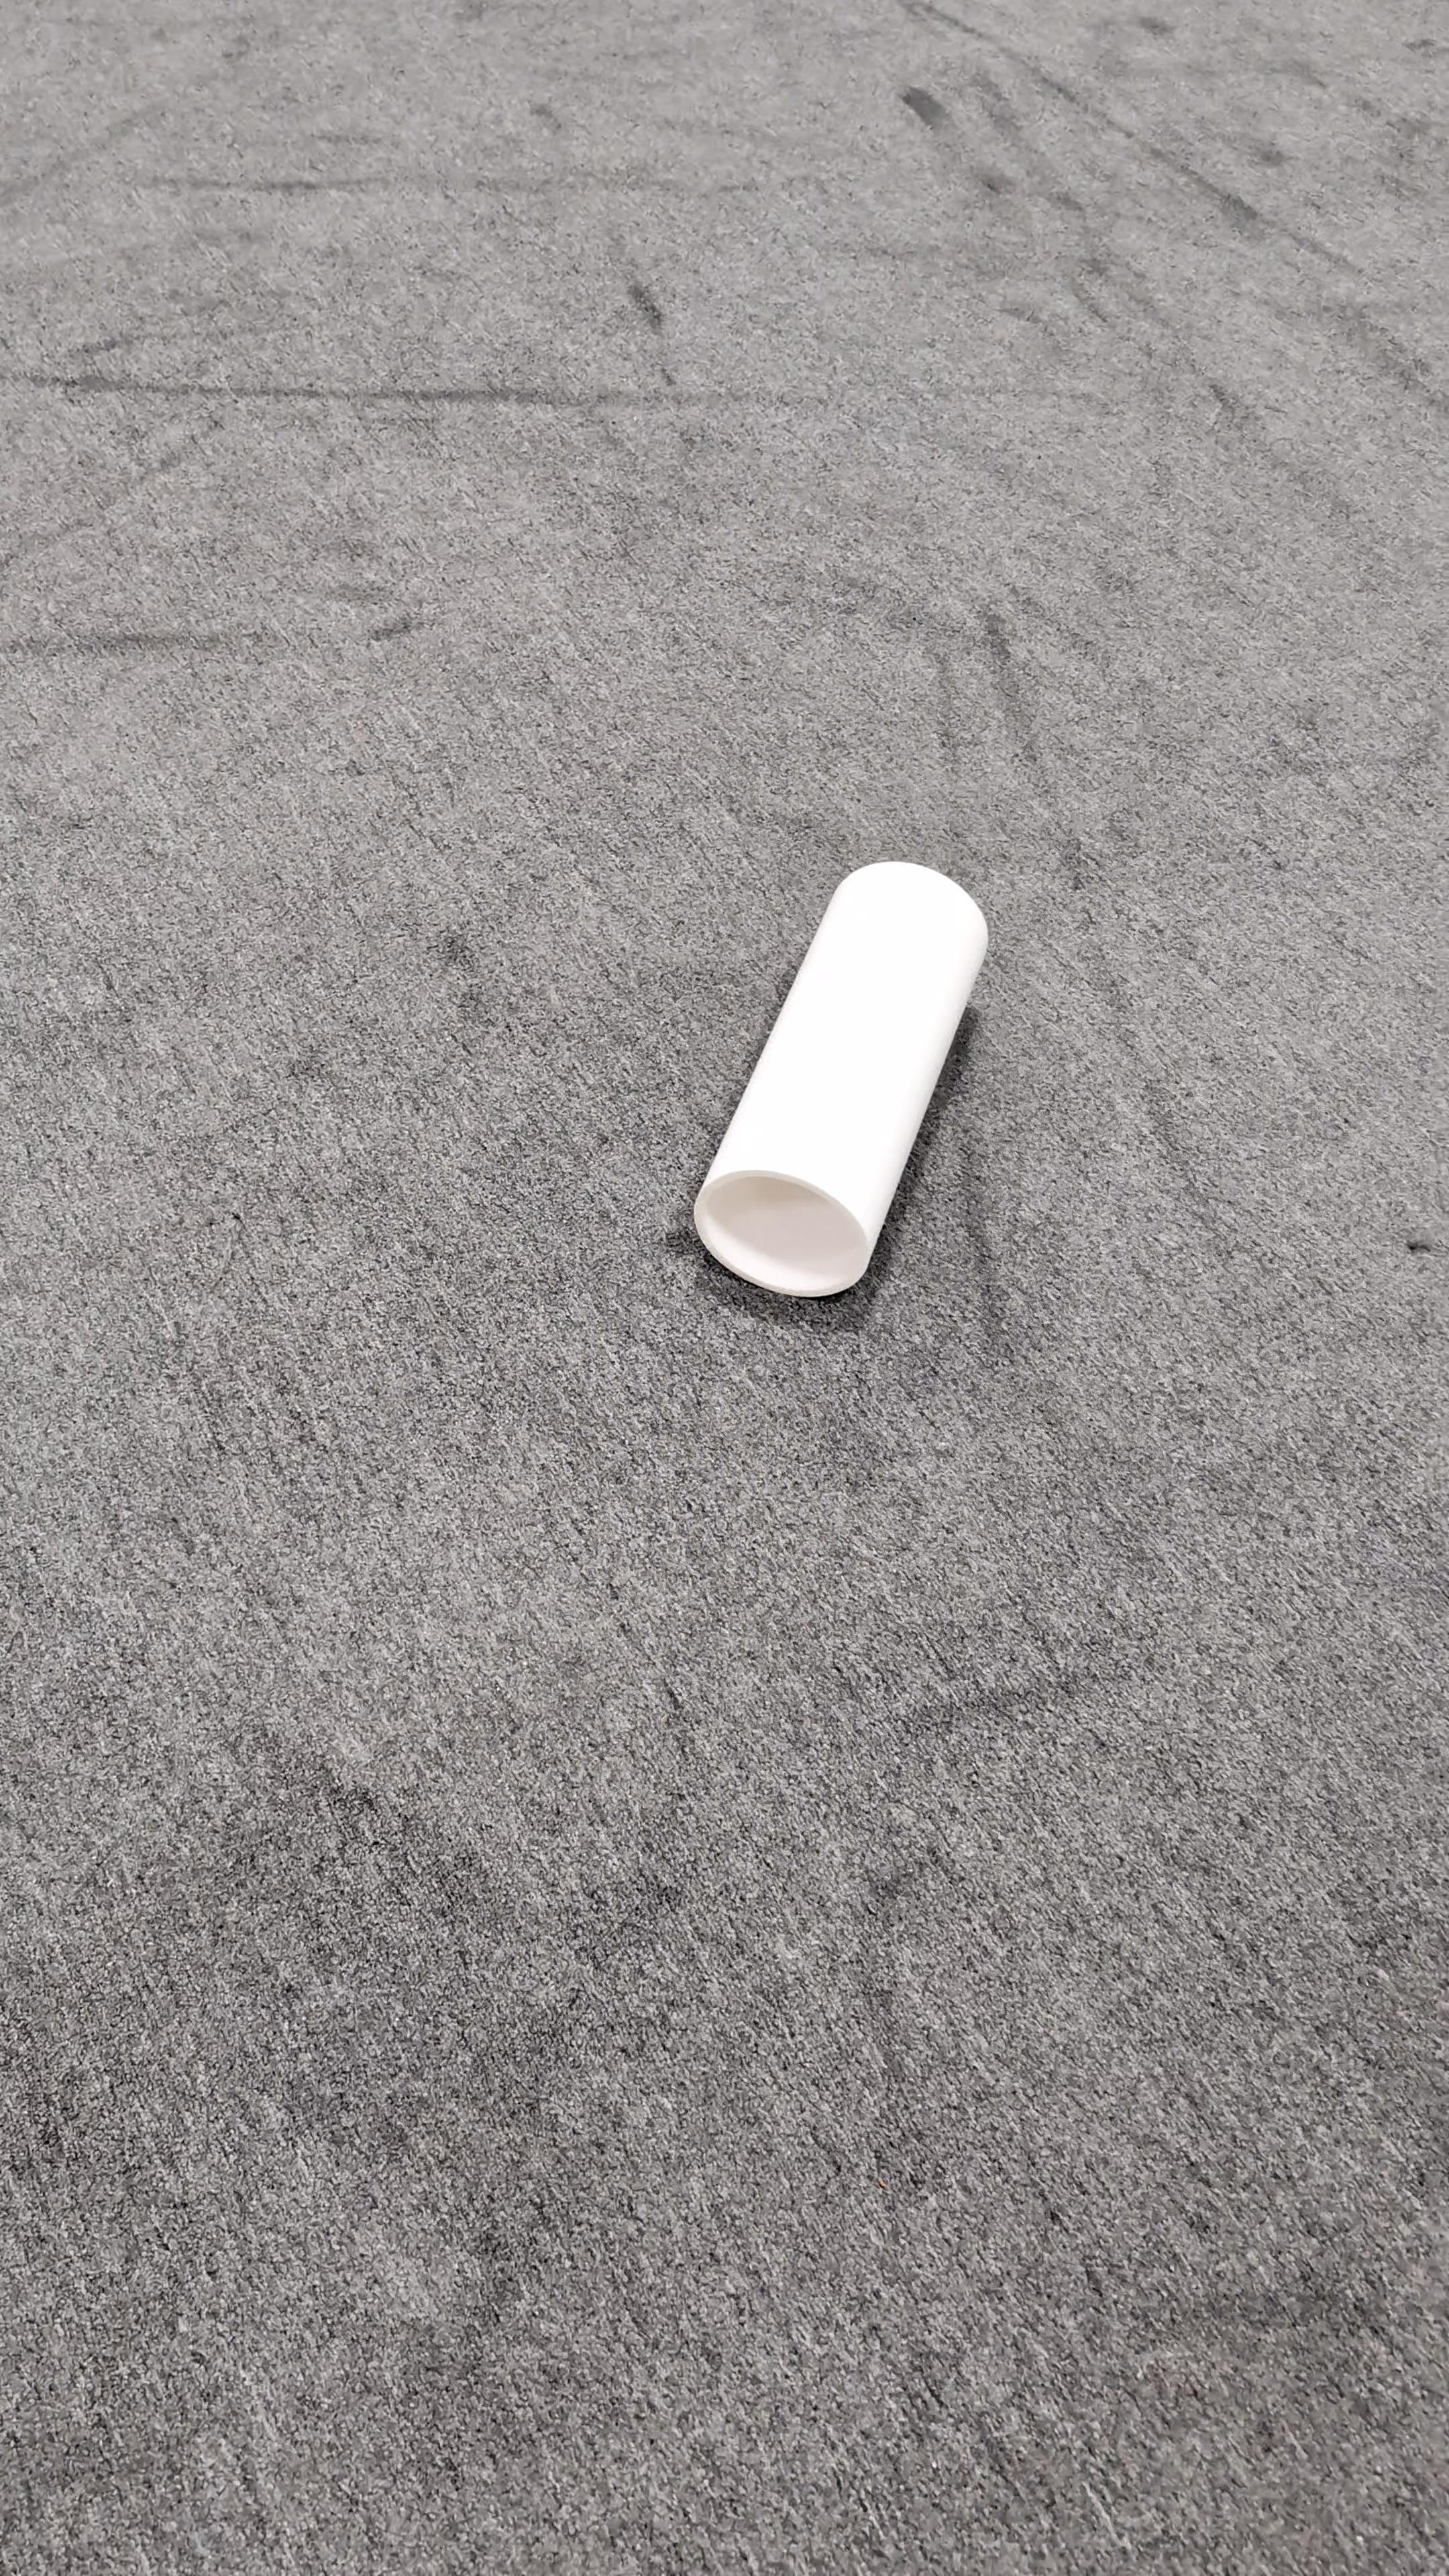coral: (695, 865, 989, 1299)
